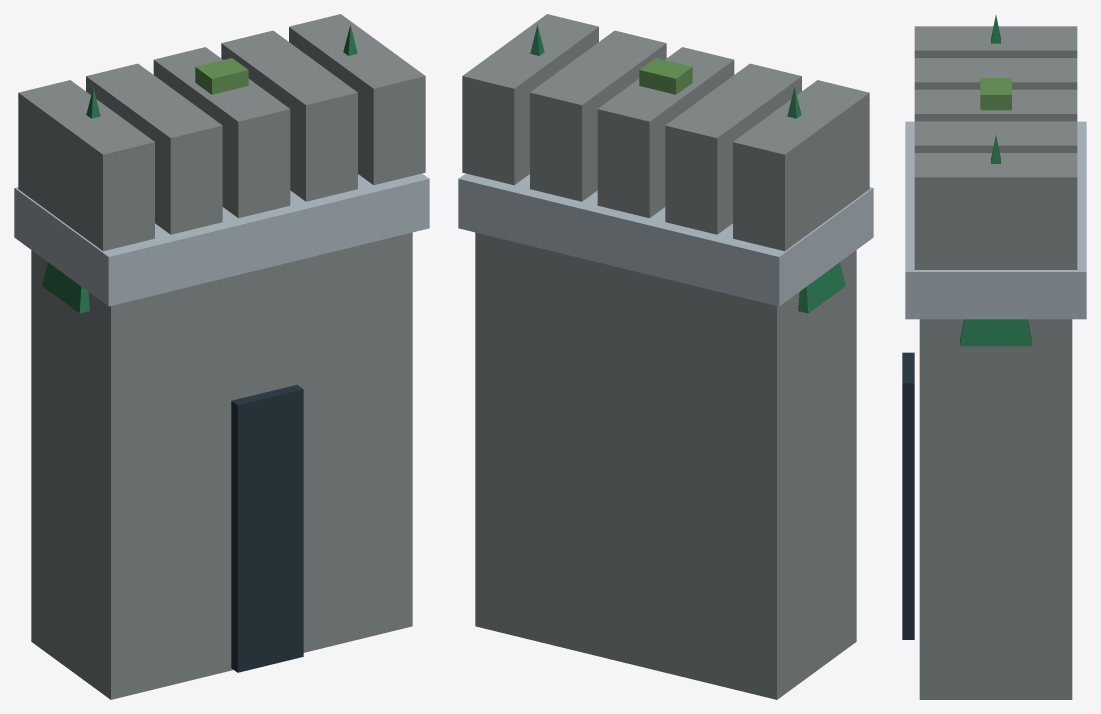
The model's file is defense.obj.
The picture shows the model from 3 angles, left to right: view 1: azimuth 30°, elevation 25°; view 2: azimuth 150°, elevation 25°; view 3: azimuth 270°, elevation 25°; orthographic projection. The views are drawn at different scales.
Visible parts, largest first — view 1: defense; view 2: defense; view 3: defense.
Part boxes in pixels (left/top/right/bottom): defense: left=14, top=14, right=429, bottom=699; defense: left=458, top=14, right=873, bottom=699; defense: left=902, top=15, right=1086, bottom=699.
Size of the model in its own units: 1.58 by 2.71 by 0.8145.
